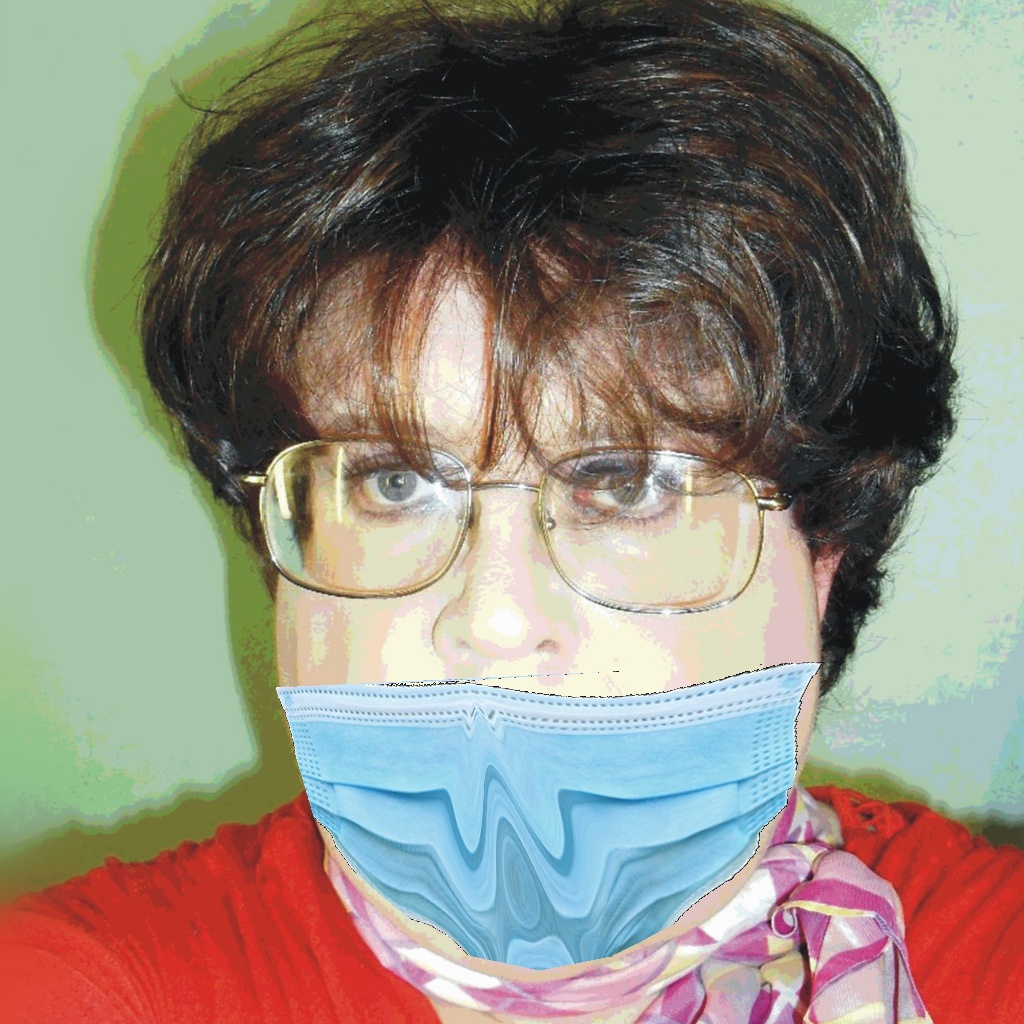mascarilla_mal_puesta: (277, 455, 807, 990)
